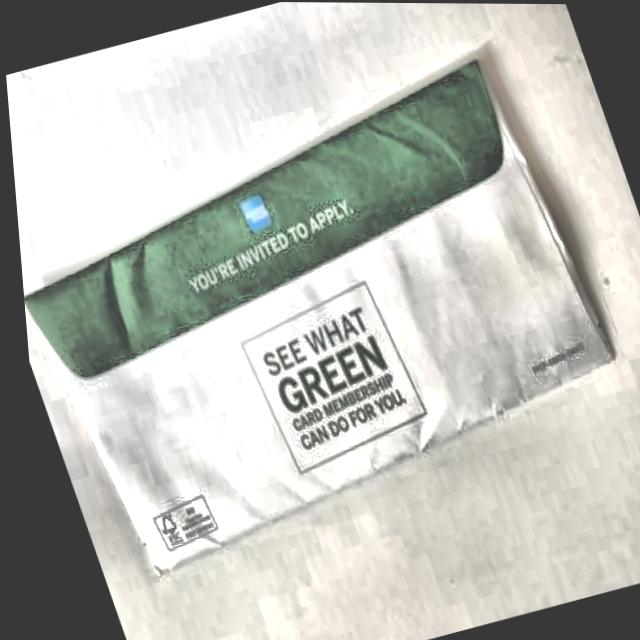Paper: (2, 36, 640, 604)
